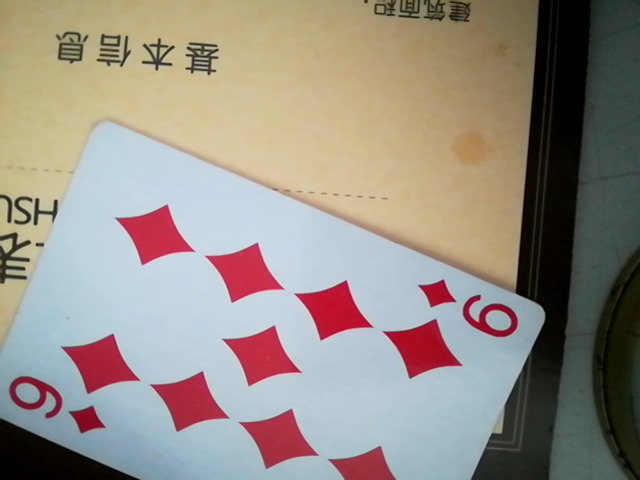fk 9: (0, 127, 553, 478)
